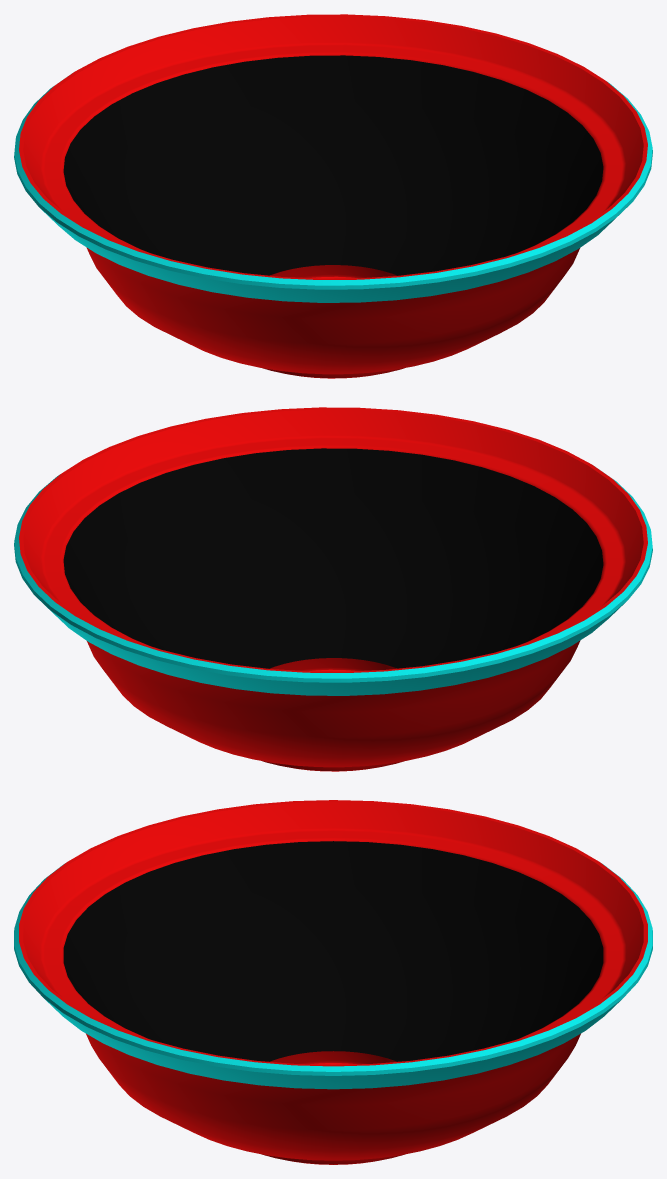
The model's file is bowl.fbx.
3 renders of one model, top to bottom at view 1: azimuth 30°, elevation 25°; view 2: azimuth 150°, elevation 25°; view 3: azimuth 270°, elevation 25°, orthographic.
Parts seen in each view (by area): view 1: pSphere1; view 2: pSphere1; view 3: pSphere1.
Boxes of the visible parts, box(x1,y1,x2,y2) form: pSphere1: box(14, 14, 652, 378); pSphere1: box(14, 407, 652, 771); pSphere1: box(14, 800, 652, 1164).
Bounding box in the file's own units: 2.1 × 0.7098 × 2.09.
